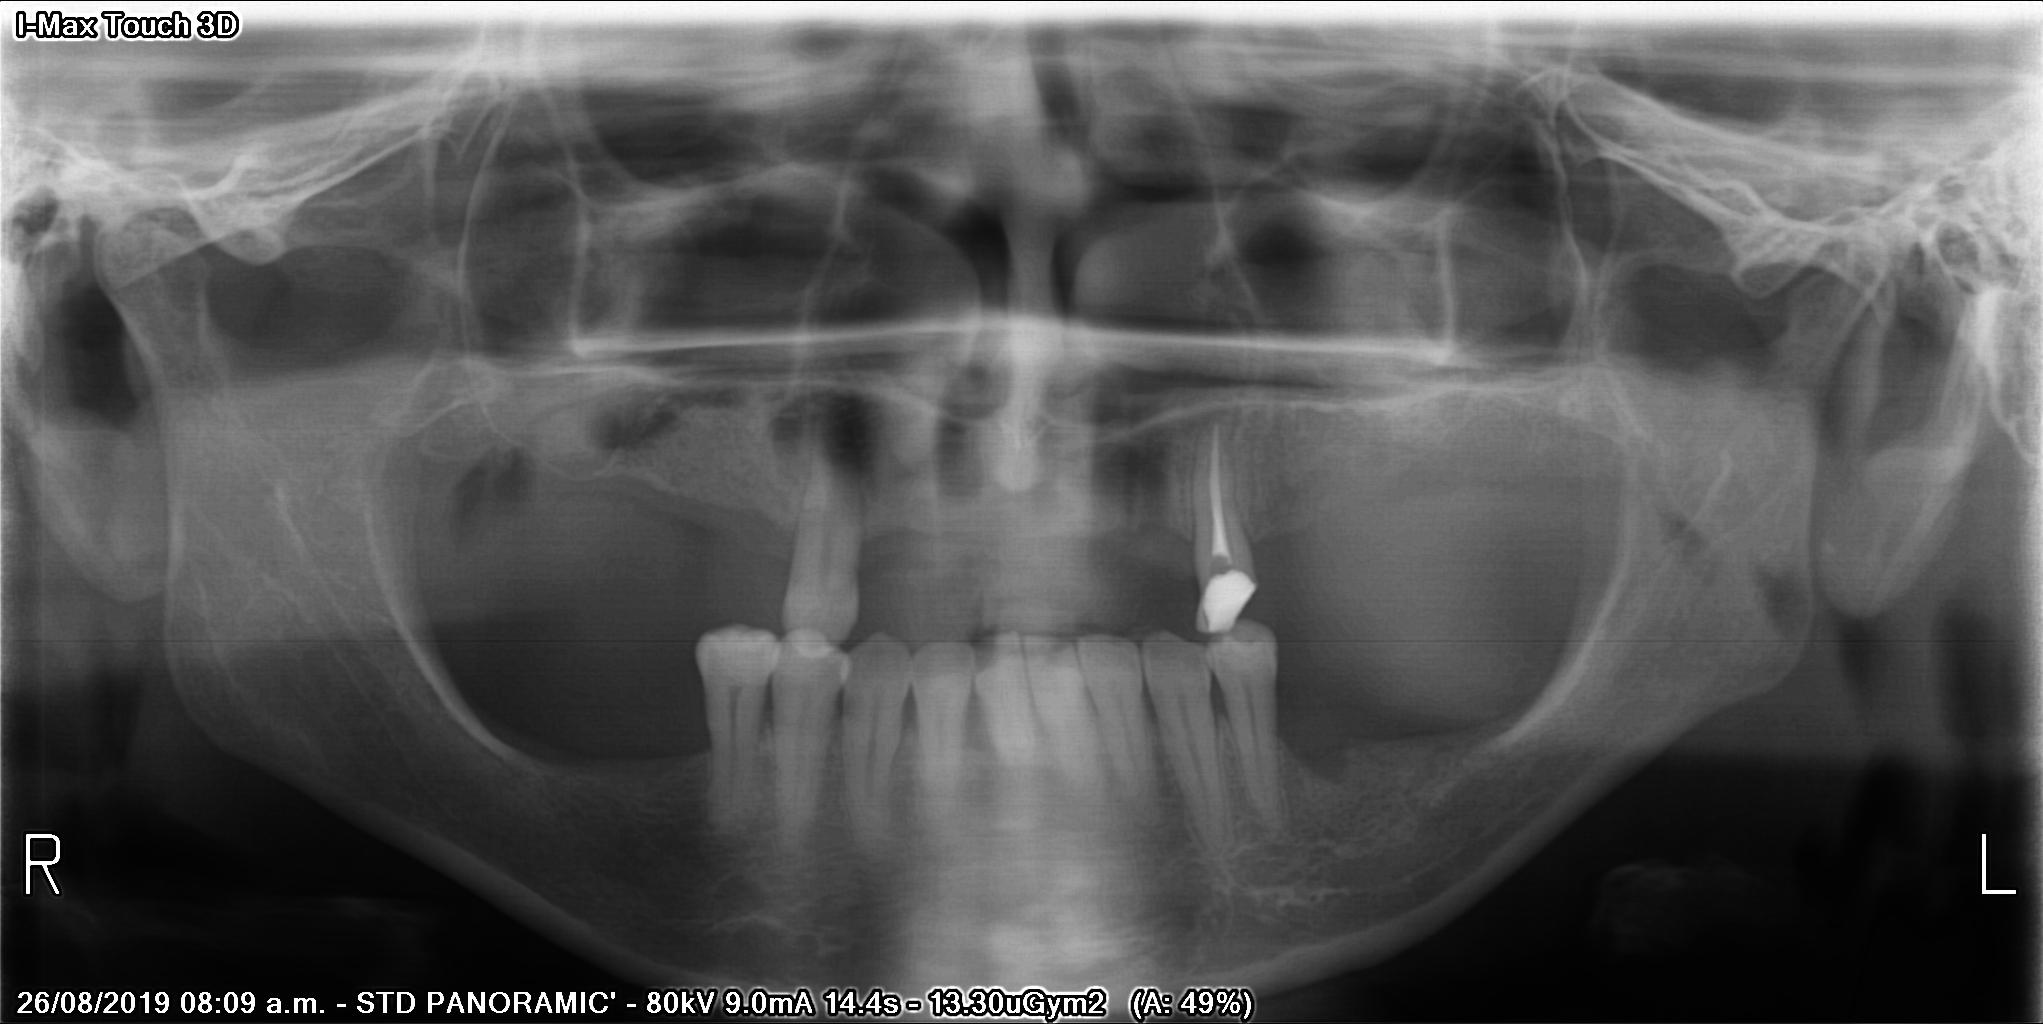Çürük: (1186, 562, 1263, 638)
